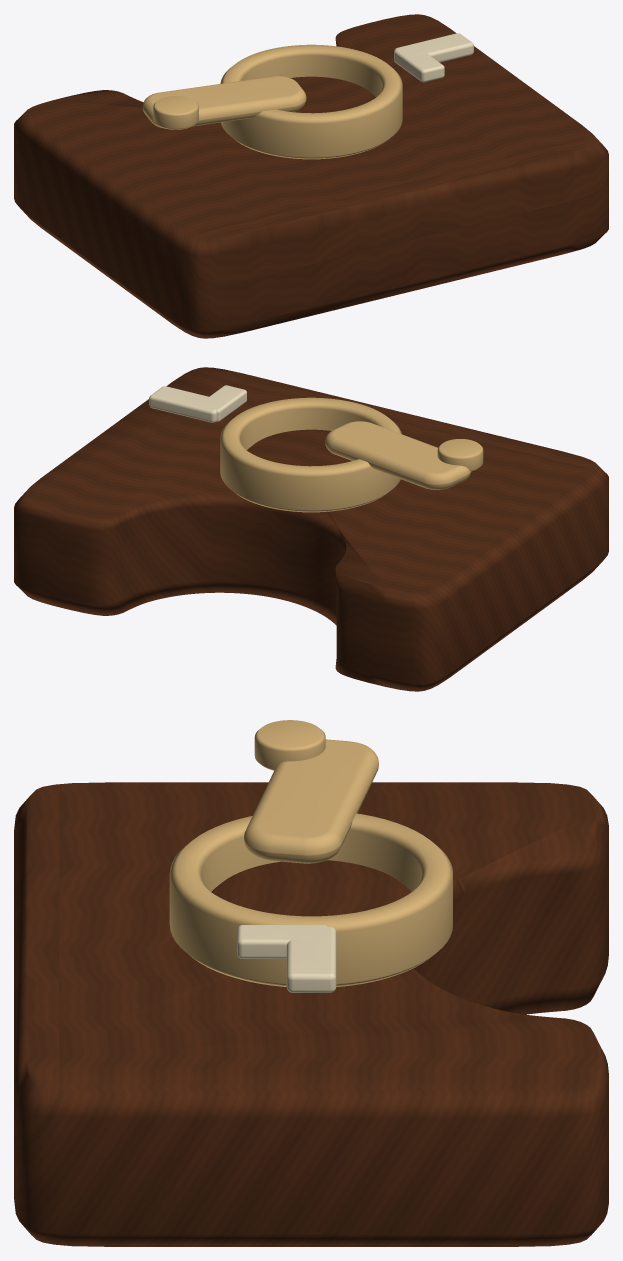
The model's file is cargo_art_08_dock_alignment.glb.
3 views of the same model, one above another, from view 1: azimuth 30°, elevation 25°; view 2: azimuth 150°, elevation 25°; view 3: azimuth 270°, elevation 25° (orthographic). The views are drawn at different scales.
Visible parts, largest first — view 1: preview_support, hub_collar, moving_brass_tab, hub_inset, tab_pin, fixed_ivory_tick, fixed_ivory_foot; view 2: preview_support, hub_collar, moving_brass_tab, hub_inset, fixed_ivory_tick, tab_pin, fixed_ivory_foot; view 3: preview_support, hub_collar, moving_brass_tab, hub_inset, fixed_ivory_tick, tab_pin, fixed_ivory_foot.
Boxes of the visible parts, box(x1,y1,x2,y2) form: preview_support: box(14, 14, 608, 338); hub_collar: box(220, 44, 402, 159); moving_brass_tab: box(142, 76, 306, 128); hub_inset: box(290, 76, 375, 113); tab_pin: box(153, 96, 198, 129); fixed_ivory_tick: box(394, 33, 473, 62); fixed_ivory_foot: box(394, 46, 444, 82); preview_support: box(14, 367, 608, 691); hub_collar: box(220, 397, 401, 512); moving_brass_tab: box(325, 421, 471, 489); hub_inset: box(247, 429, 351, 466); fixed_ivory_tick: box(149, 386, 224, 422); tab_pin: box(437, 439, 483, 471); fixed_ivory_foot: box(200, 385, 246, 421); preview_support: box(14, 782, 608, 1246); hub_collar: box(169, 813, 452, 986); moving_brass_tab: box(244, 739, 378, 863); hub_inset: box(211, 860, 411, 916); fixed_ivory_tick: box(286, 926, 336, 992); tab_pin: box(254, 720, 325, 770); fixed_ivory_foot: box(237, 925, 327, 958).
Bounding box in the file's own units: 0.108 × 0.039 × 0.084.
Materials: 3 (1 with a texture image).
